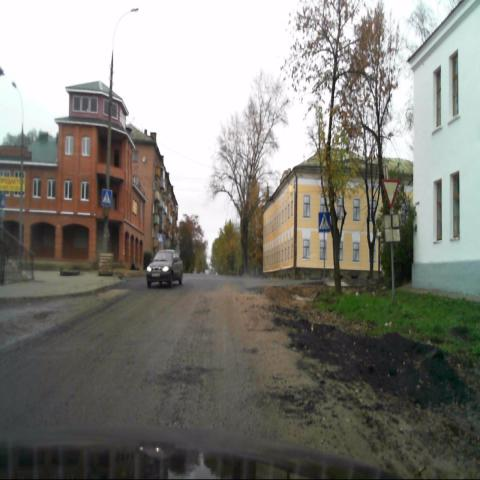8_13: (384, 215, 400, 243)
